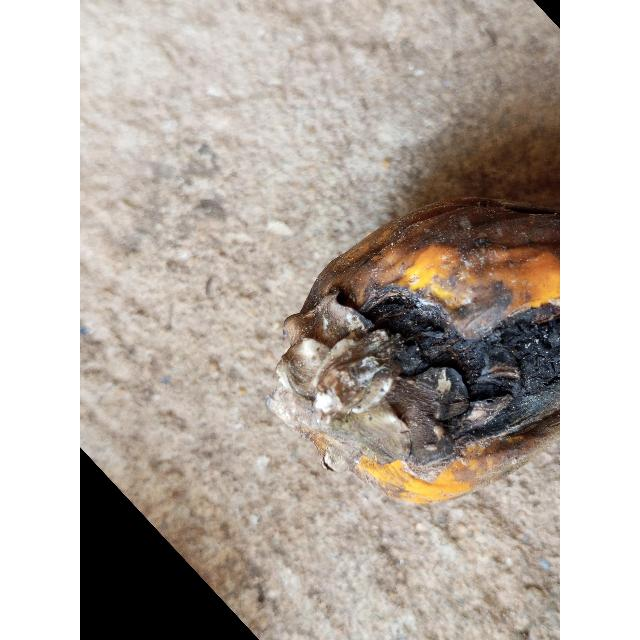damaged: (267, 197, 560, 508)
